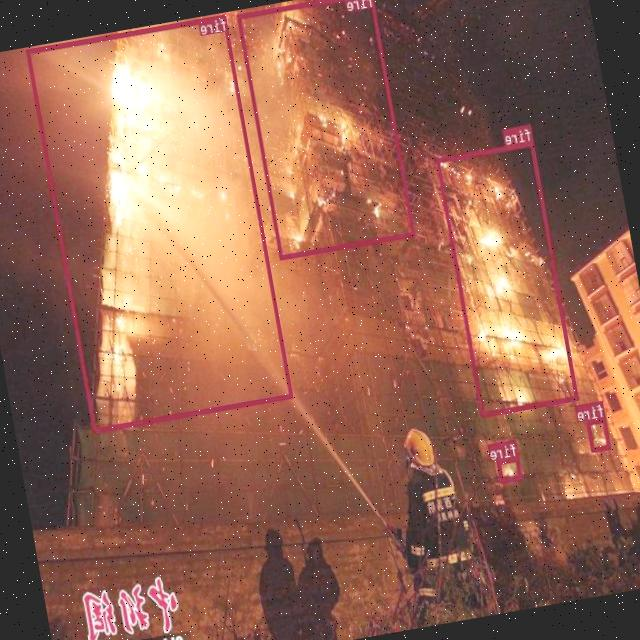fire: (26, 14, 292, 432), (236, 0, 415, 258), (436, 140, 578, 416), (586, 416, 612, 451), (497, 455, 523, 481)
